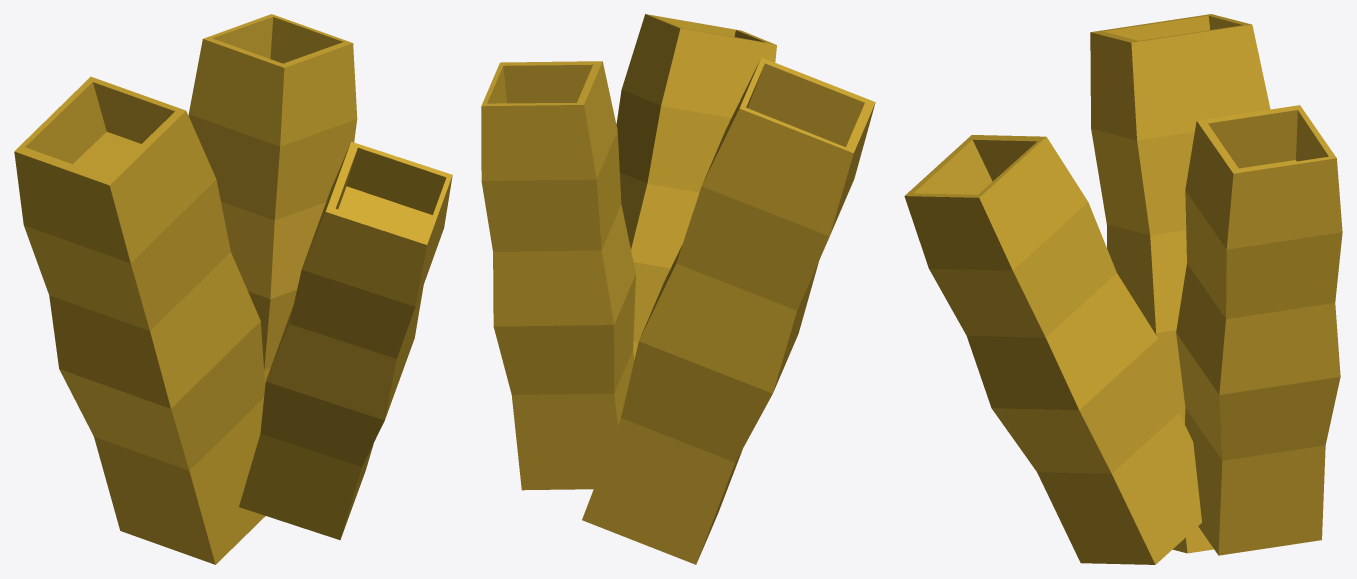
File: tube_sponge.fbx
3 renders of one model, left to right at view 1: azimuth 30°, elevation 25°; view 2: azimuth 150°, elevation 25°; view 3: azimuth 270°, elevation 25°, orthographic. The views are drawn at different scales.
Parts seen in each view (by area): view 1: tube_sponge; view 2: tube_sponge; view 3: tube_sponge.
Boxes of the visible parts, bbox=[...] form: tube_sponge: bbox=[14, 14, 452, 564]; tube_sponge: bbox=[481, 14, 875, 564]; tube_sponge: bbox=[904, 14, 1342, 564].
Size of the model in its own units: 165 by 211 by 174.
1 material, 1 textured.
